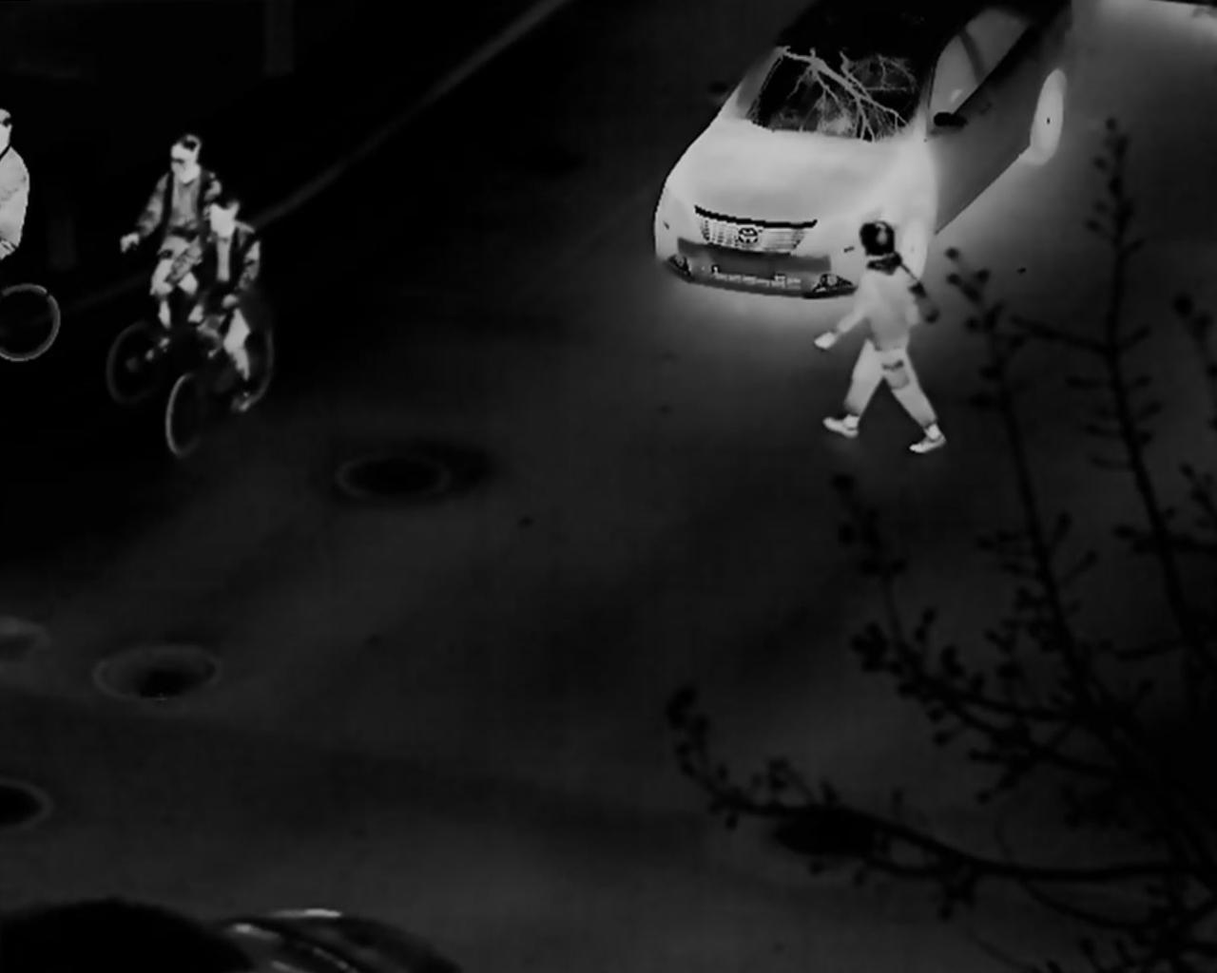person: (812, 221, 948, 454), (117, 135, 219, 327), (186, 191, 260, 415)
